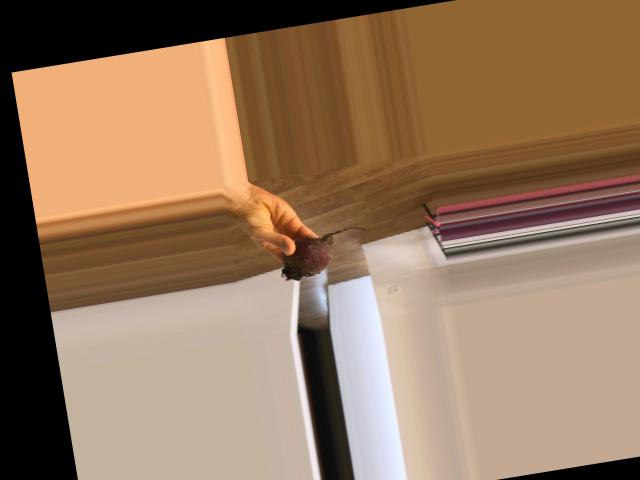beet: (276, 224, 375, 282)
